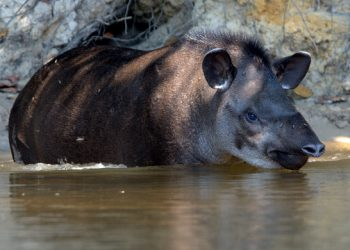Anta: (4, 31, 329, 174)
